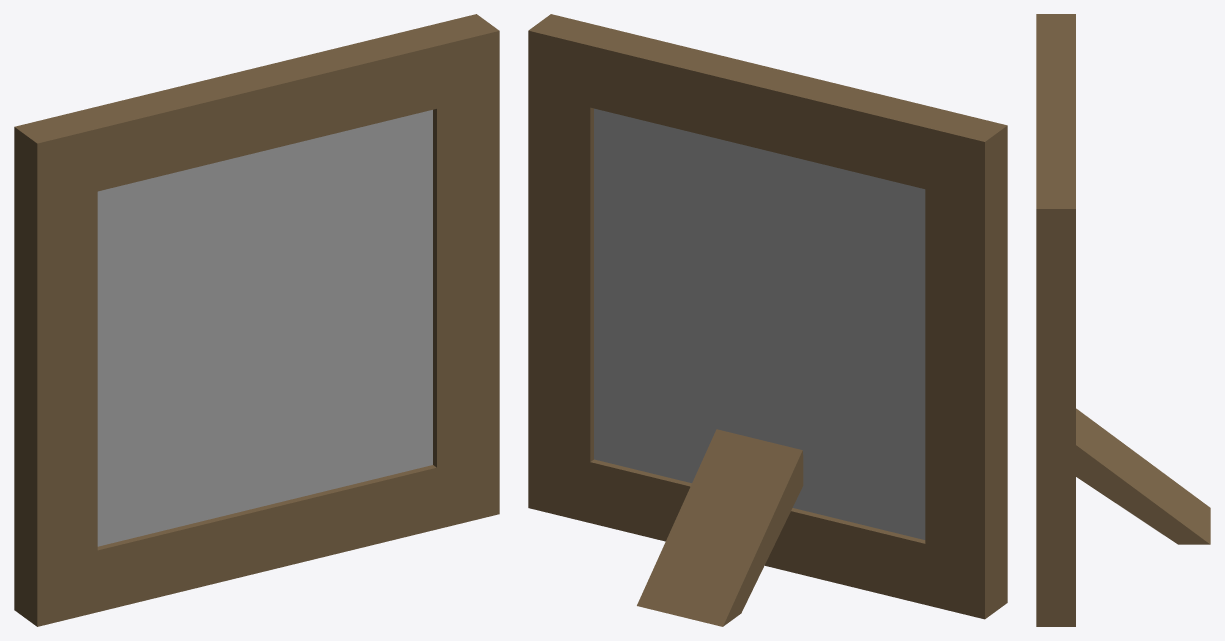
The model's file is family_pictureframe.fbx.
The picture shows the model from 3 angles, left to right: view 1: azimuth 30°, elevation 25°; view 2: azimuth 150°, elevation 25°; view 3: azimuth 270°, elevation 25°; orthographic projection. The views are drawn at different scales.
Visible parts, largest first — view 1: pCube1, pCube3; view 2: pCube1, pCube3, pCube2; view 3: pCube1, pCube2.
Part boxes in pixels (left/top/right/bottom): pCube1: left=14, top=14, right=499, bottom=626; pCube3: left=97, top=110, right=432, bottom=546; pCube1: left=528, top=14, right=1007, bottom=619; pCube3: left=594, top=108, right=925, bottom=539; pCube2: left=637, top=429, right=803, bottom=626; pCube1: left=1036, top=14, right=1075, bottom=626; pCube2: left=1076, top=408, right=1210, bottom=544.
Size of the model in its own units: 0.2322 by 0.232 by 0.0877.
